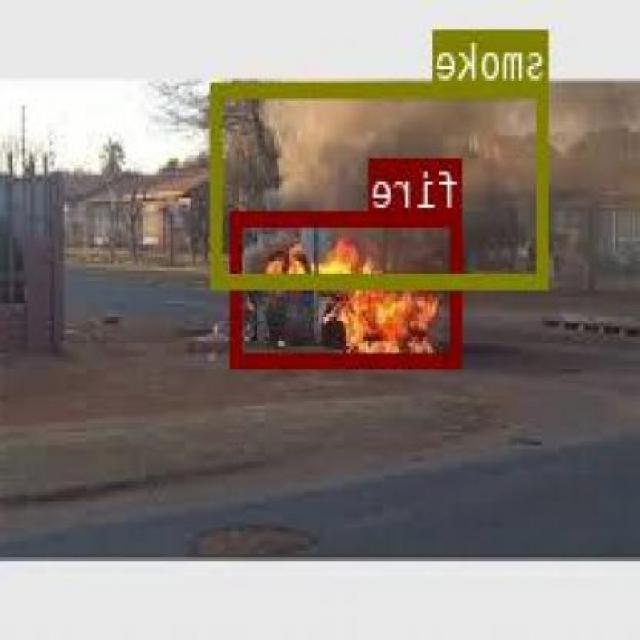Fire: (233, 208, 464, 364)
Smoke: (214, 79, 551, 287)
